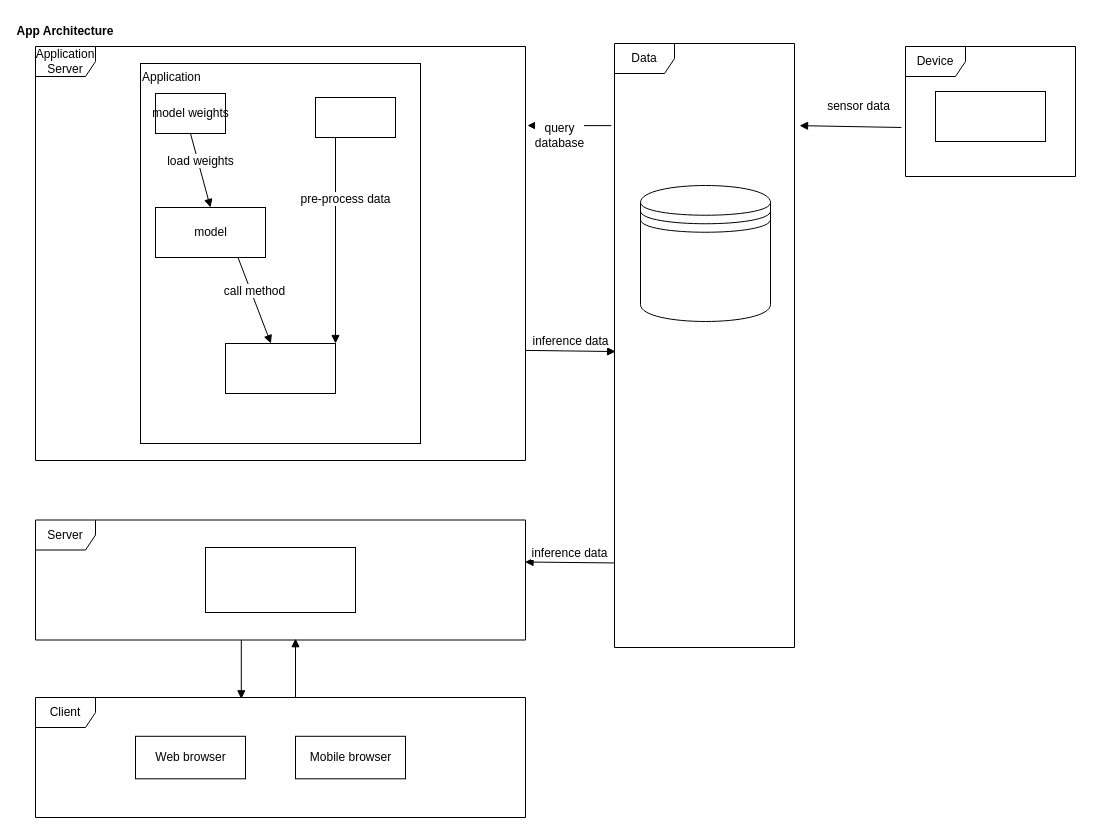
This 1093x835 diagram has some shape labels left out. The centre of each missing label's shape, as x and y in pixels:
"Cloud Storage - Sensor Data - Inference" belongs at (x=705, y=253).
"data pipeline" belongs at (x=355, y=117).
"inference" belongs at (x=280, y=368).
"Wearable Device" belongs at (x=990, y=116).
"Webserver (dashboard app)" belongs at (x=280, y=579).
